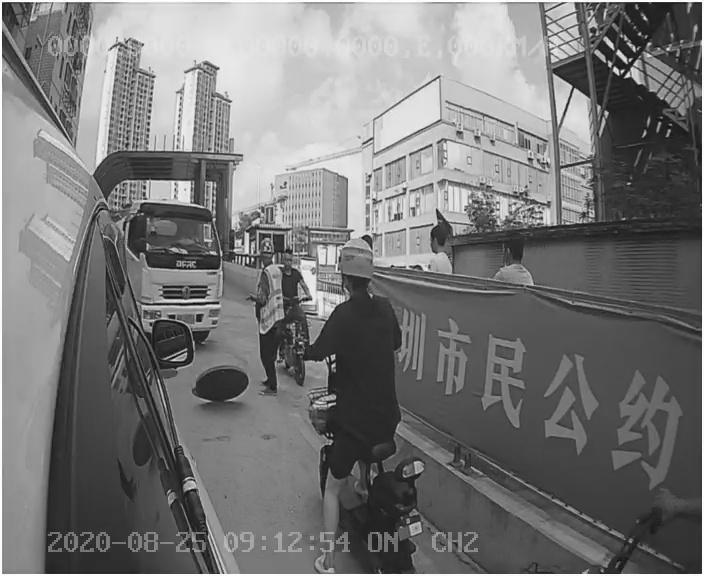person: (241, 239, 300, 406)
